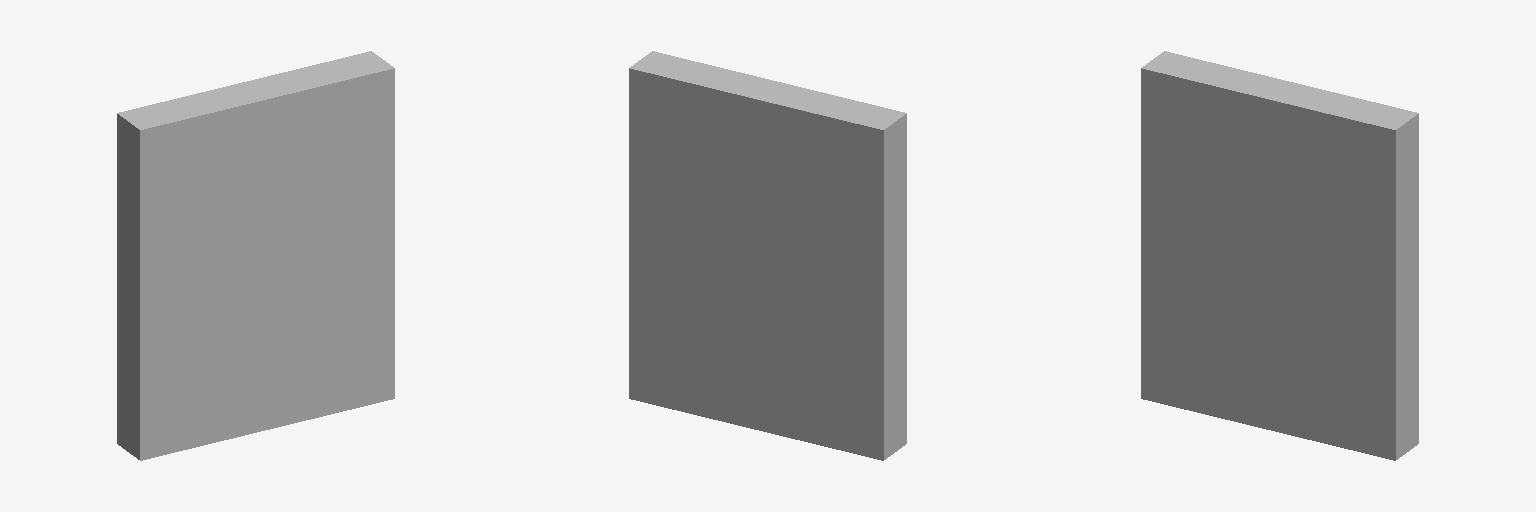
The model's file is Tutorial Map V1.0-7.obj.
The picture shows the model from 3 angles: view 1: azimuth 30°, elevation 25°; view 2: azimuth 150°, elevation 25°; view 3: azimuth 330°, elevation 25°; orthographic projection.
Parts seen in each view (by area): view 1: object 1; view 2: object 1; view 3: object 1.
Part boxes in pixels (bbox=[...]): object 1: bbox=[117, 51, 394, 460]; object 1: bbox=[629, 51, 906, 460]; object 1: bbox=[1141, 51, 1418, 460].
Bounding box in the file's own units: 2.5 × 3.1 × 0.4.